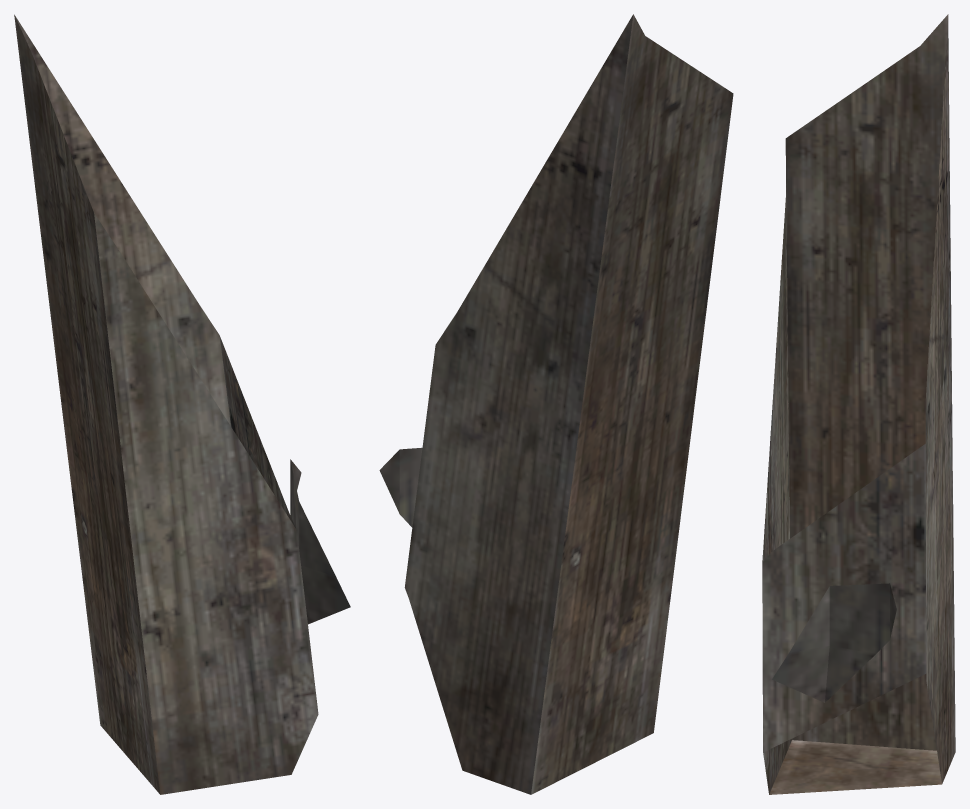
Rendered from Wagon3_5.fbx.
The picture shows the model from 3 angles, left to right: view 1: azimuth 30°, elevation 25°; view 2: azimuth 150°, elevation 25°; view 3: azimuth 270°, elevation 25°; orthographic projection. The views are drawn at different scales.
Visible parts, largest first — view 1: SM_Wagon03_DM.005; view 2: SM_Wagon03_DM.005; view 3: SM_Wagon03_DM.005.
Part boxes in pixels (bbox=[...]): SM_Wagon03_DM.005: bbox=[14, 14, 350, 794]; SM_Wagon03_DM.005: bbox=[379, 14, 733, 794]; SM_Wagon03_DM.005: bbox=[762, 14, 955, 794].
Size of the model in its own units: 1313 by 3467 by 872.
